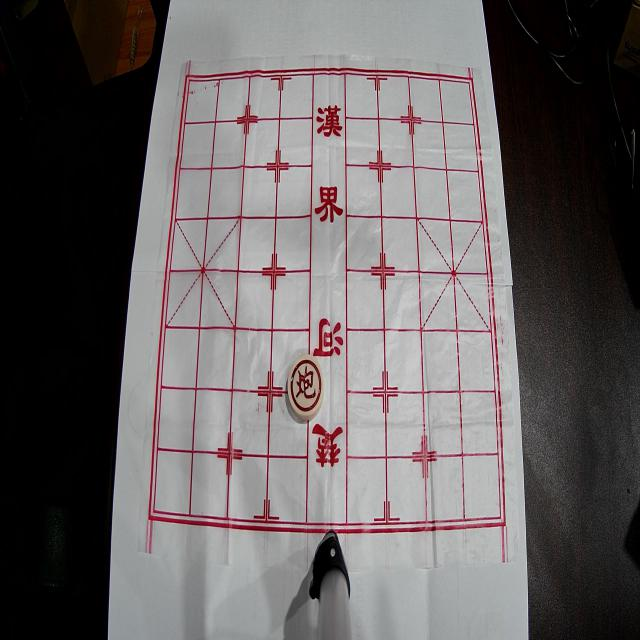red-cannon: (288, 354, 324, 420)
